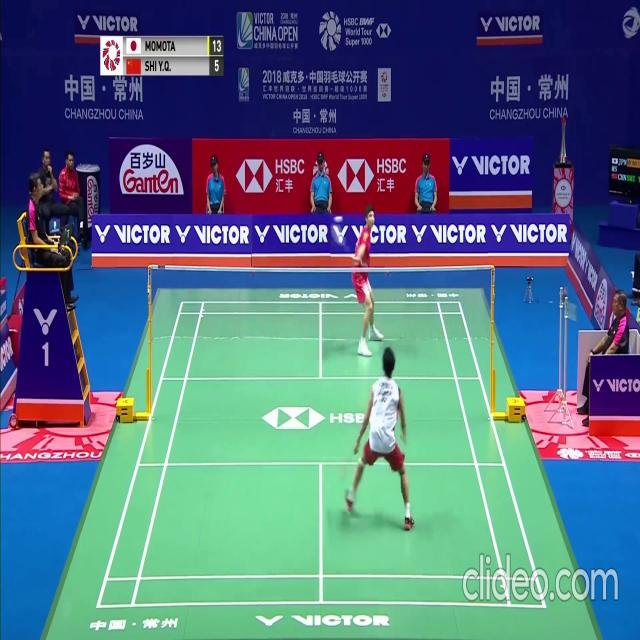Shuttlecock: (333, 215, 338, 222)
